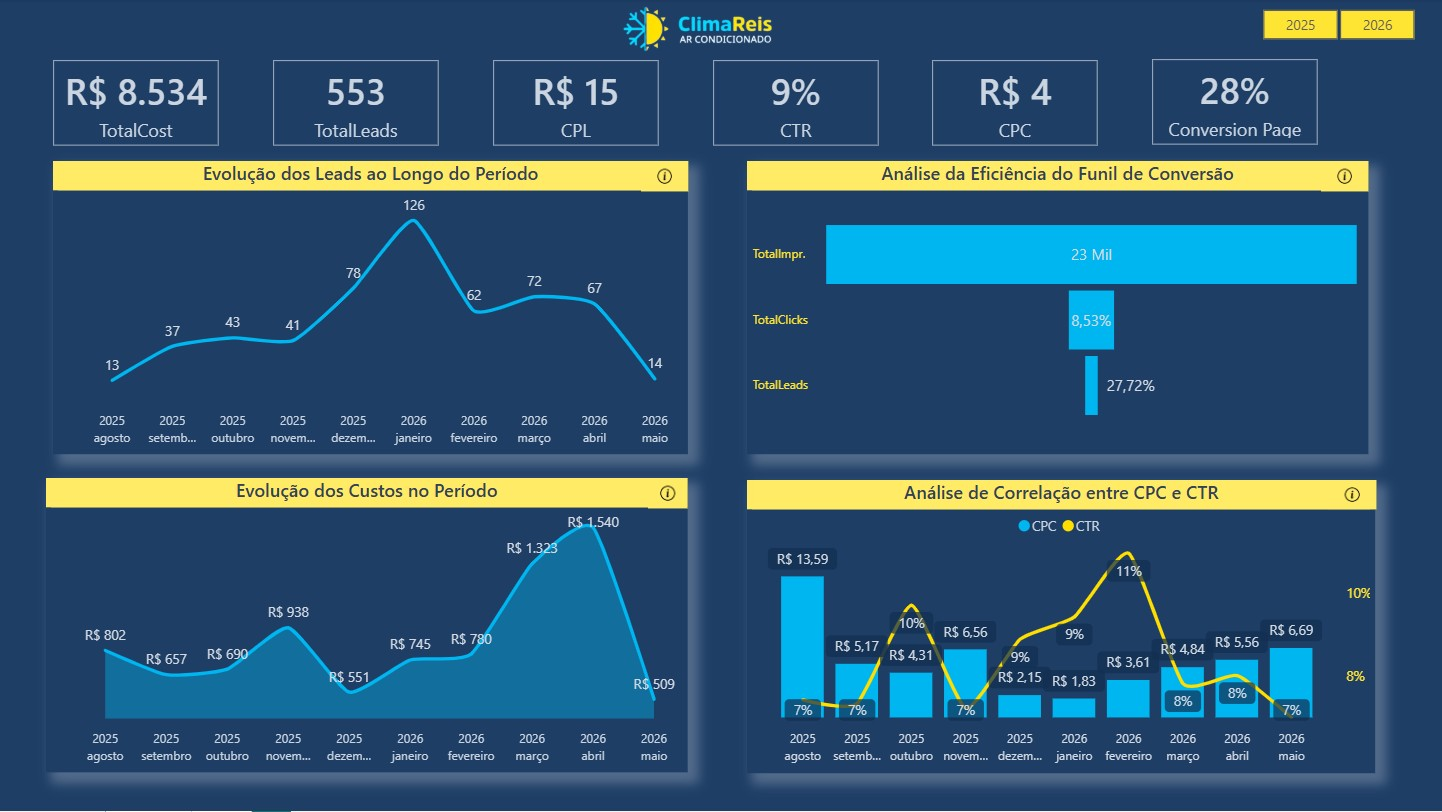

This screenshot's page, from the dashboard's own definition file:
{"tool":"powerbi","page":{"name":"Página 1","canvas":[1280,720],"ordinal":0},"visuals":[{"type":"card","fields":{"Values":["#Metrics (1).Cost"]},"box":[48.8,54.1,147.2,76.3],"z":0},{"type":"card","fields":{"Values":["#Metrics (1).TotalLeads"]},"box":[243.8,54.1,147.2,76.3],"z":1000},{"type":"card","fields":{"Values":["#Metrics (1).CPL"]},"box":[438.8,54.1,147,76],"z":2000},{"type":"card","fields":{"Values":["#Metrics (1).CPC"]},"box":[828.4,54.1,147,76.3],"z":3000},{"type":"card","fields":{"Values":["#Metrics (1).Conversion Page"]},"box":[1023.3,53.2,147,76.3],"z":4000},{"type":"image","box":[524,0,211.9,53.2],"z":5000},{"type":"card","fields":{"Values":["#Metrics (1).CTR"]},"box":[633.6,54.1,147,76.3],"z":6000},{"type":"lineChart","title":"Evolução dos Leads ao Longo do Período","fields":{"Y":["#Metrics (1).TotalLeads"],"Category":["dim_calendar.Date.Variation.Hierarquia de datas.Ano","dim_calendar.Date.Variation.Hierarquia de datas.Mês"]},"box":[48.8,143.6,563.1,259.8],"z":7000,"group":"g3"},{"type":"areaChart","title":"Evolução dos Custos no Período","fields":{"Category":["dim_calendar.Date.Variation.Hierarquia de datas.Ano","dim_calendar.Date.Variation.Hierarquia de datas.Mês"],"Y":["#Metrics (1).TotalCost"]},"box":[42.2,424.4,568.8,261.3],"z":7000},{"type":"slicer","fields":{"Values":["dim_calendar.Ano"]},"box":[1096,2.7,184.4,39.9],"z":8000},{"type":"image","box":[576.4,424.7,34.6,27.5],"z":9000},{"type":"lineClusteredColumnComboChart","title":"Análise de Correlação entre CPC e CTR","fields":{"Y":["#Metrics (1).CPC"],"Y2":["#Metrics (1).CTR"],"Category":["dim_calendar.Date.Variation.Hierarquia de datas.Ano","dim_calendar.Date.Variation.Hierarquia de datas.Mês"]},"box":[664.1,426.8,557.3,259.5],"z":9000,"group":"g1"},{"type":"funnel","title":"Análise da Eficiência do Funil de Conversão","fields":{"Y":["#Metrics (1).TotalImpr.","#Metrics (1).TotalClicks","#Metrics (1).TotalLeads"]},"box":[664.1,143.6,550.6,259.8],"z":10000,"group":"g2"},{"type":"group","id":"g1","title":"Grupo 1","box":[664.1,426.5,557.7,259.8],"z":10000},{"type":"group","id":"g2","title":"Grupo 2","box":[664.1,143.4,551,260],"z":11000},{"type":"image","box":[569.8,143.4,42.2,26.5],"z":11001,"group":"g3"},{"type":"image","box":[1172.9,143.4,42.2,26.5],"z":11003,"group":"g2"},{"type":"image","box":[1179.1,426.5,42.8,26.5],"z":11004,"group":"g1"},{"type":"group","id":"g3","title":"Grupo 3","box":[48.8,143.4,563.2,260],"z":12000}]}

Visuals, with their boxes in screenshot pixels (x1, y1, x2, y2), scaled from the page's 1280x720 canvas onto the 1442x812 screenshot:
card - #Metrics (1).Cost: (55,61,221,147)
card - #Metrics (1).TotalLeads: (275,61,440,147)
card - #Metrics (1).CPL: (494,61,660,147)
card - #Metrics (1).CPC: (933,61,1099,147)
card - #Metrics (1).Conversion Page: (1153,60,1318,146)
image: (590,0,829,60)
card - #Metrics (1).CTR: (714,61,879,147)
"Evolução dos Leads ao Longo do Período" lineChart: (55,162,689,455)
"Evolução dos Custos no Período" areaChart: (48,479,688,773)
slicer - dim_calendar.Ano: (1235,3,1441,48)
image: (649,479,688,510)
"Análise de Correlação entre CPC e CTR" lineClusteredColumnComboChart: (748,481,1376,774)
"Análise da Eficiência do Funil de Conversão" funnel: (748,162,1368,455)
"Grupo 1" group: (748,481,1376,774)
"Grupo 2" group: (748,162,1369,455)
image: (642,162,689,192)
image: (1321,162,1369,192)
image: (1328,481,1377,511)
"Grupo 3" group: (55,162,689,455)
